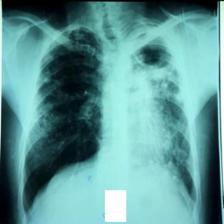tuberculosis: (19, 21, 199, 216)
